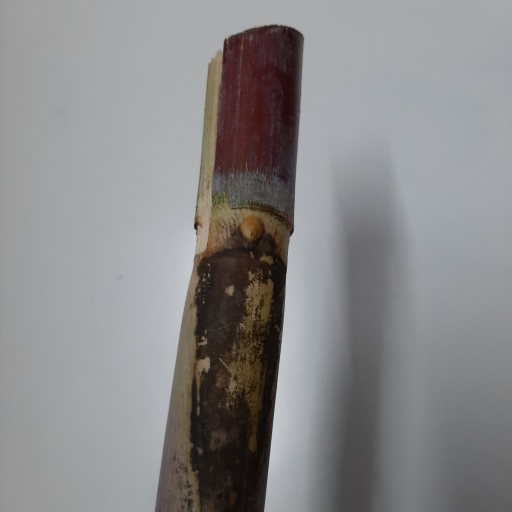Bud: (239, 215, 263, 245)
